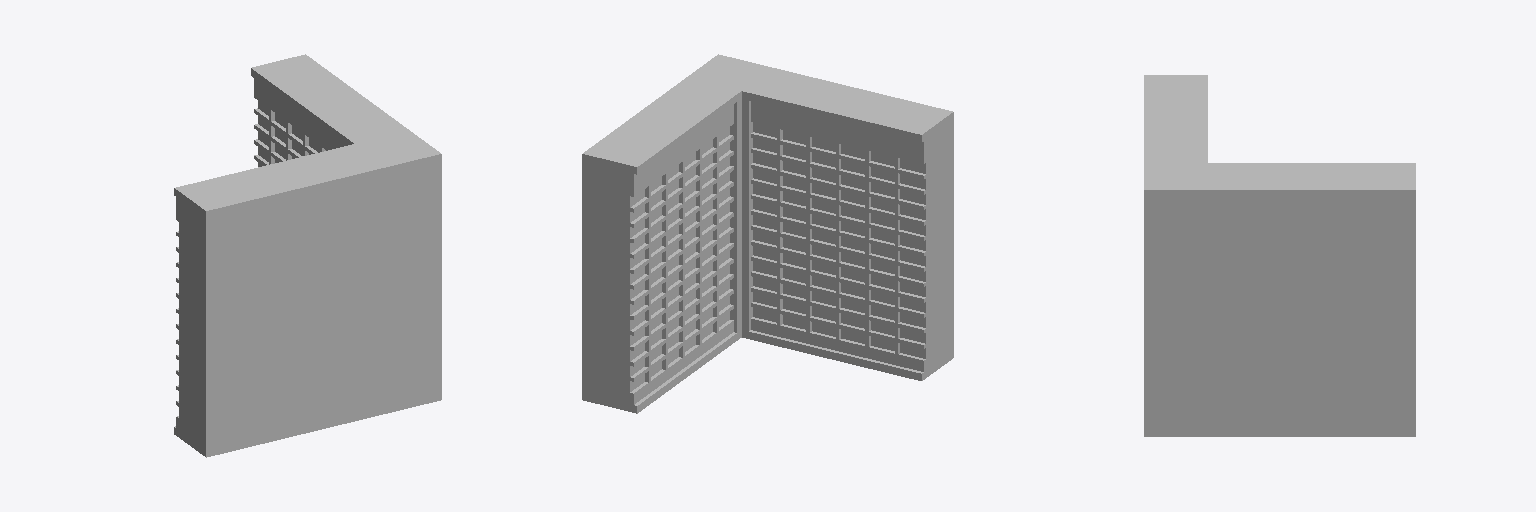
The model's file is The Vault-12.obj.
The picture shows the model from 3 angles: view 1: azimuth 30°, elevation 25°; view 2: azimuth 150°, elevation 25°; view 3: azimuth 270°, elevation 25°; orthographic projection.
Parts seen in each view (by area): view 1: The Vault-12; view 2: The Vault-12; view 3: The Vault-12.
Part boxes in pixels (bbox=[...]): The Vault-12: bbox=[174, 54, 441, 457]; The Vault-12: bbox=[582, 54, 953, 413]; The Vault-12: bbox=[1144, 75, 1415, 436].
Bounding box in the file's own units: 64 × 64 × 64.